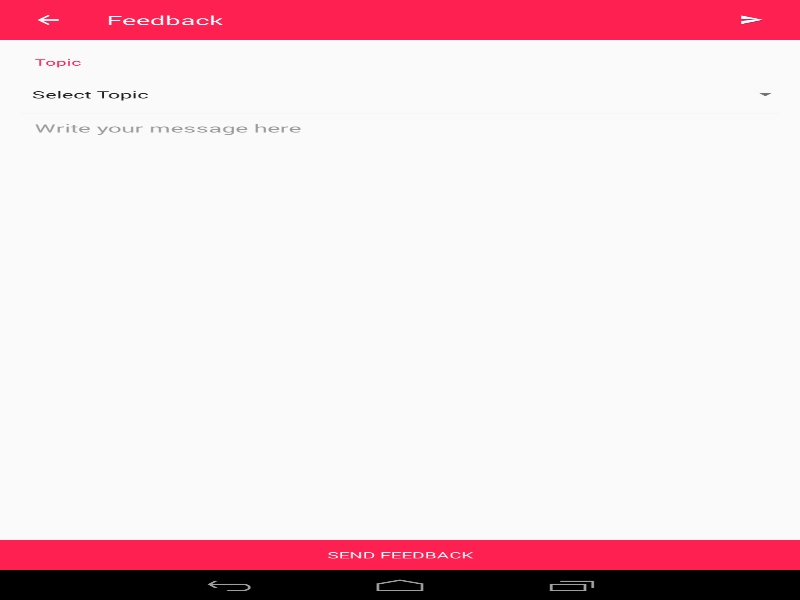Button: (0, 540, 800, 570), (10, 0, 85, 40)
Input: (21, 114, 778, 530)
